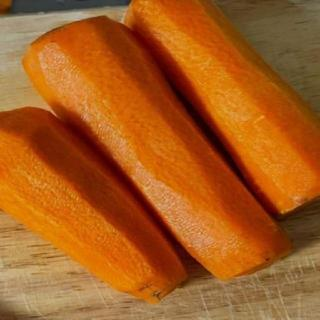carrot: (26, 11, 298, 281), (122, 0, 320, 218), (2, 107, 196, 305)
